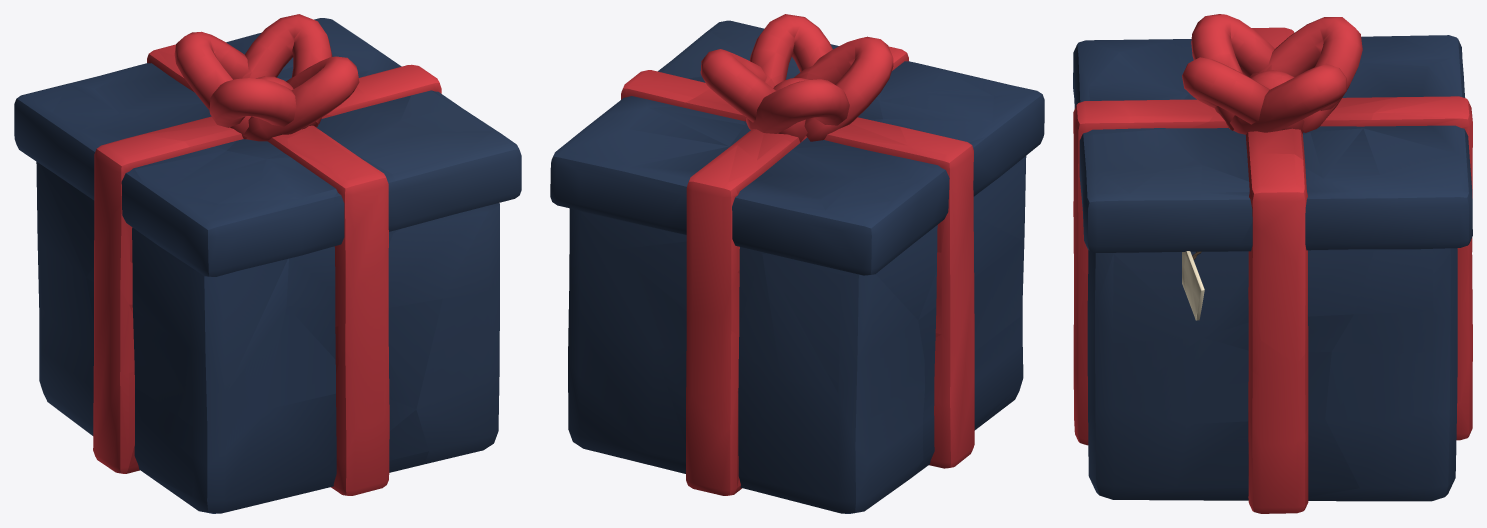
The model's file is frost_gift_box_lod1.glb.
3 renders of one model, left to right at view 1: azimuth 30°, elevation 25°; view 2: azimuth 150°, elevation 25°; view 3: azimuth 270°, elevation 25°, orthographic. The views are drawn at different scales.
Visible parts, largest first — view 1: frost_gift_box.001; view 2: frost_gift_box.001; view 3: frost_gift_box.001.
Part boxes in pixels (box(x1,y1,x2,y2)): frost_gift_box.001: box(14, 14, 521, 513); frost_gift_box.001: box(550, 14, 1044, 513); frost_gift_box.001: box(1073, 14, 1472, 513).
Size of the model in its own units: 8.08 by 8 by 7.31.
